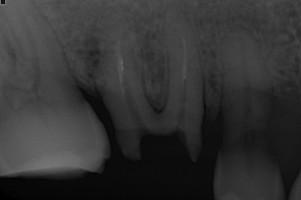Endo-Periodontal Lesion: (143, 91, 169, 114)
